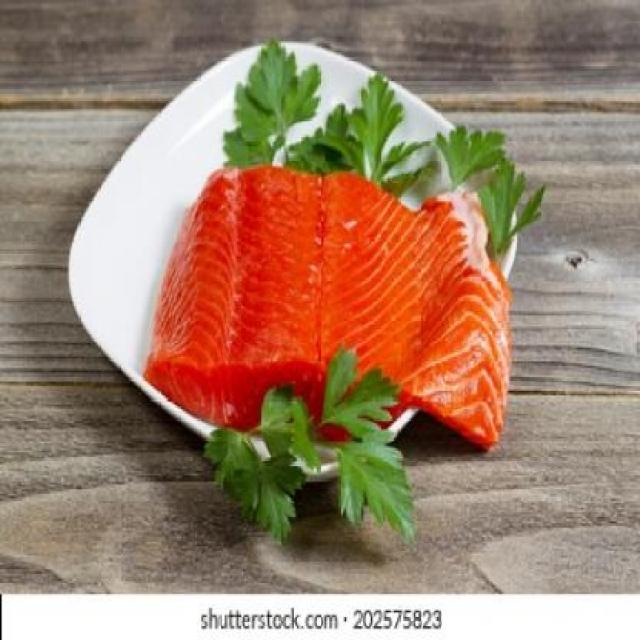salmon: (143, 154, 532, 460)
